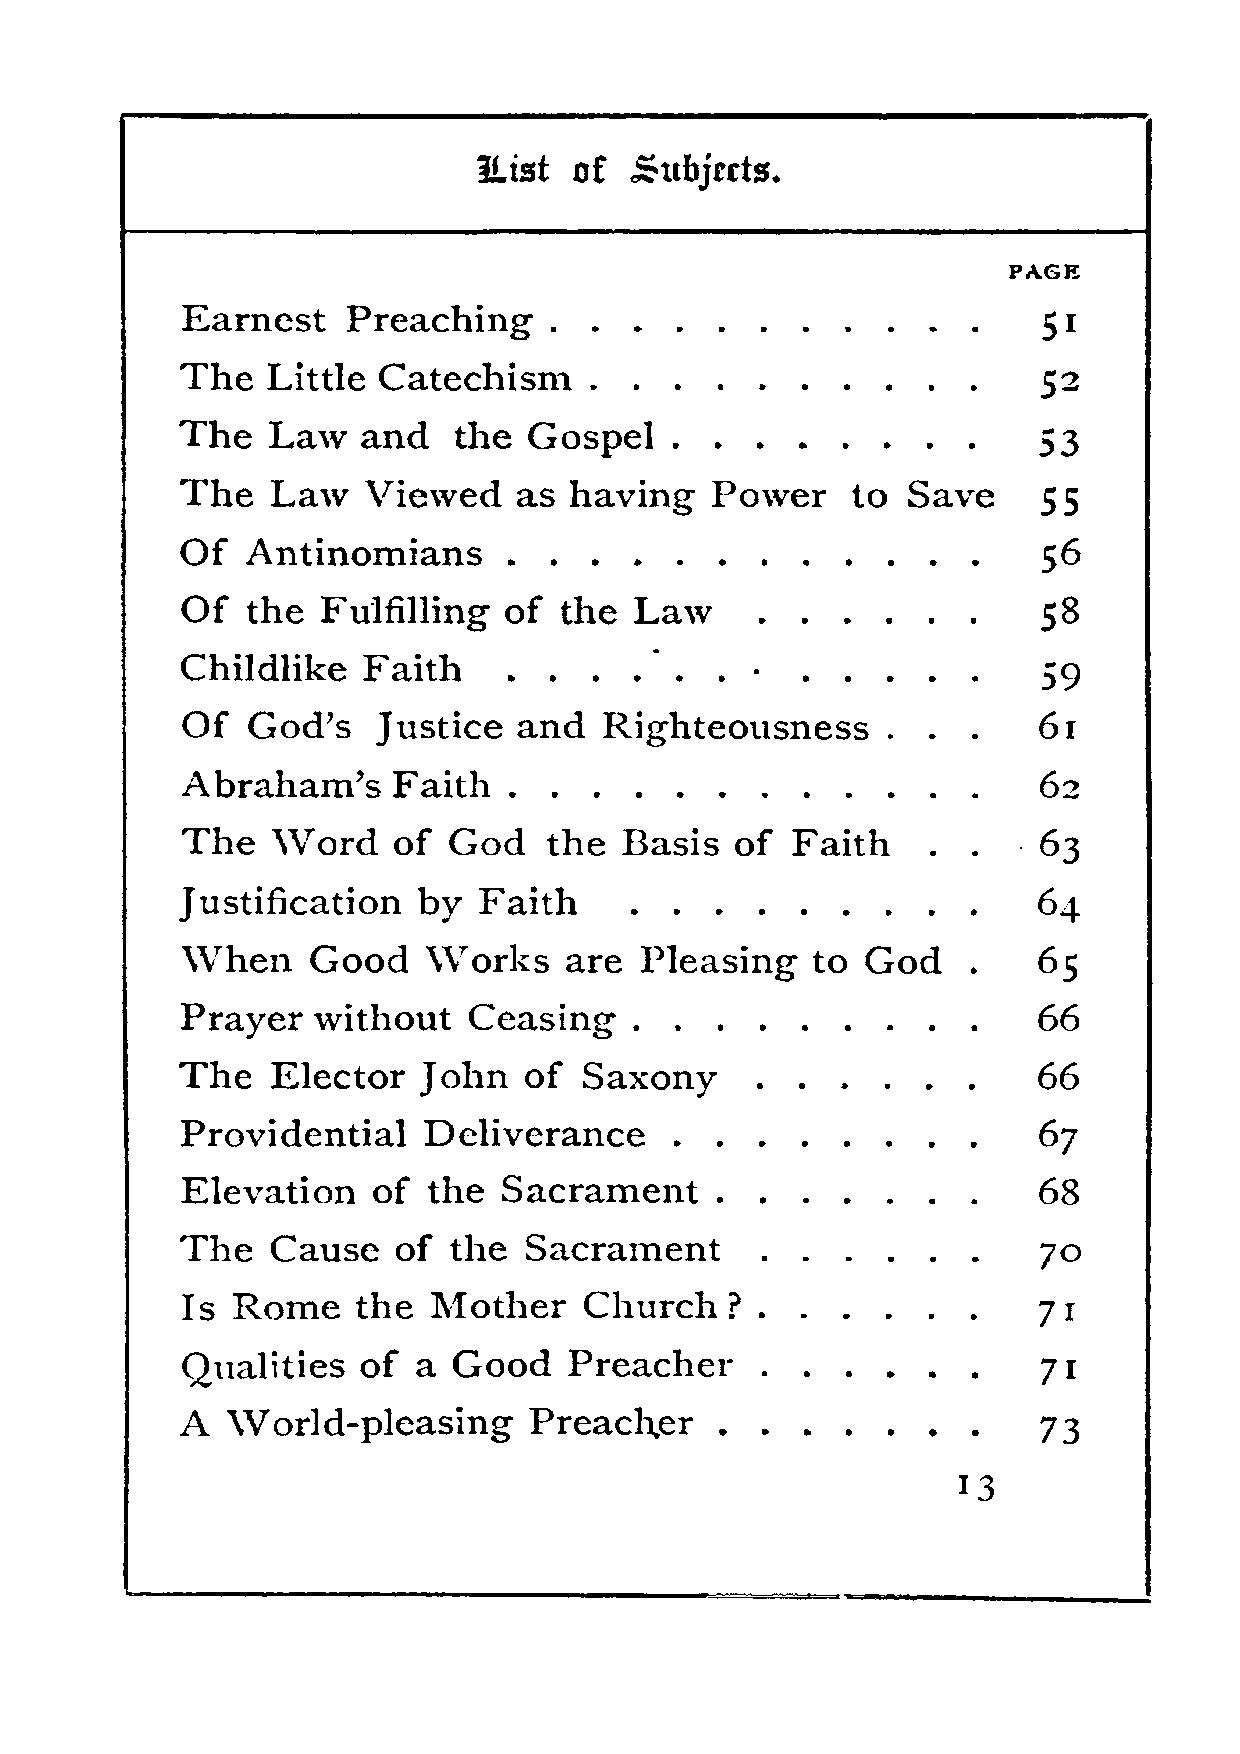TOC_chapter: (176, 816, 894, 870), (173, 937, 946, 986), (176, 705, 876, 752), (178, 1047, 715, 1106), (169, 471, 1011, 509), (176, 1282, 745, 1327), (176, 1343, 738, 1389), (176, 586, 718, 632), (162, 413, 666, 462), (176, 1170, 702, 1215), (176, 1232, 725, 1274), (178, 283, 537, 344), (166, 354, 582, 404), (178, 1113, 651, 1155), (176, 997, 621, 1041), (176, 880, 582, 929), (178, 1404, 699, 1440), (173, 644, 470, 692), (176, 530, 488, 573), (185, 764, 498, 801)
TOC_pagenumber: (1031, 880, 1084, 930), (1031, 937, 1084, 986), (1031, 997, 1088, 1040), (1033, 297, 1084, 345), (1031, 827, 1088, 868), (1031, 1053, 1083, 1099), (1033, 592, 1088, 635), (1036, 1113, 1084, 1158), (1031, 1292, 1082, 1333), (1031, 656, 1083, 694), (1031, 705, 1083, 742), (1037, 360, 1082, 404), (1036, 1346, 1079, 1392), (1036, 1170, 1084, 1210), (1031, 1237, 1083, 1274), (1033, 1408, 1086, 1444), (1037, 417, 1079, 462), (1033, 766, 1082, 804), (1037, 537, 1086, 573), (1040, 482, 1082, 519)
chapter: (466, 140, 794, 196)
